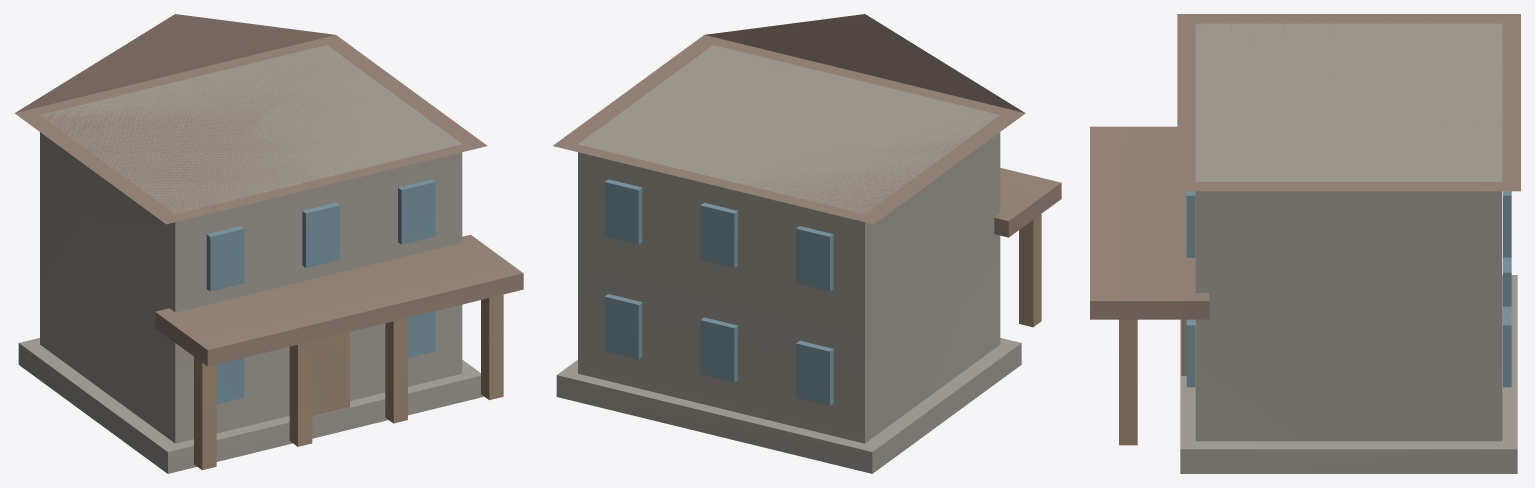
The model's file is station-00.glb.
3 renders of one model, left to right at view 1: azimuth 30°, elevation 25°; view 2: azimuth 150°, elevation 25°; view 3: azimuth 270°, elevation 25°, orthographic. The views are drawn at different scales.
Parts seen in each view (by area): view 1: world; view 2: world; view 3: world.
Boxes of the visible parts, <box> form: world: <box>14,14,523,473</box>; world: <box>553,14,1061,473</box>; world: <box>1090,14,1520,473</box>.
Size of the model in its own units: 1.23 by 1.14 by 1.26.
